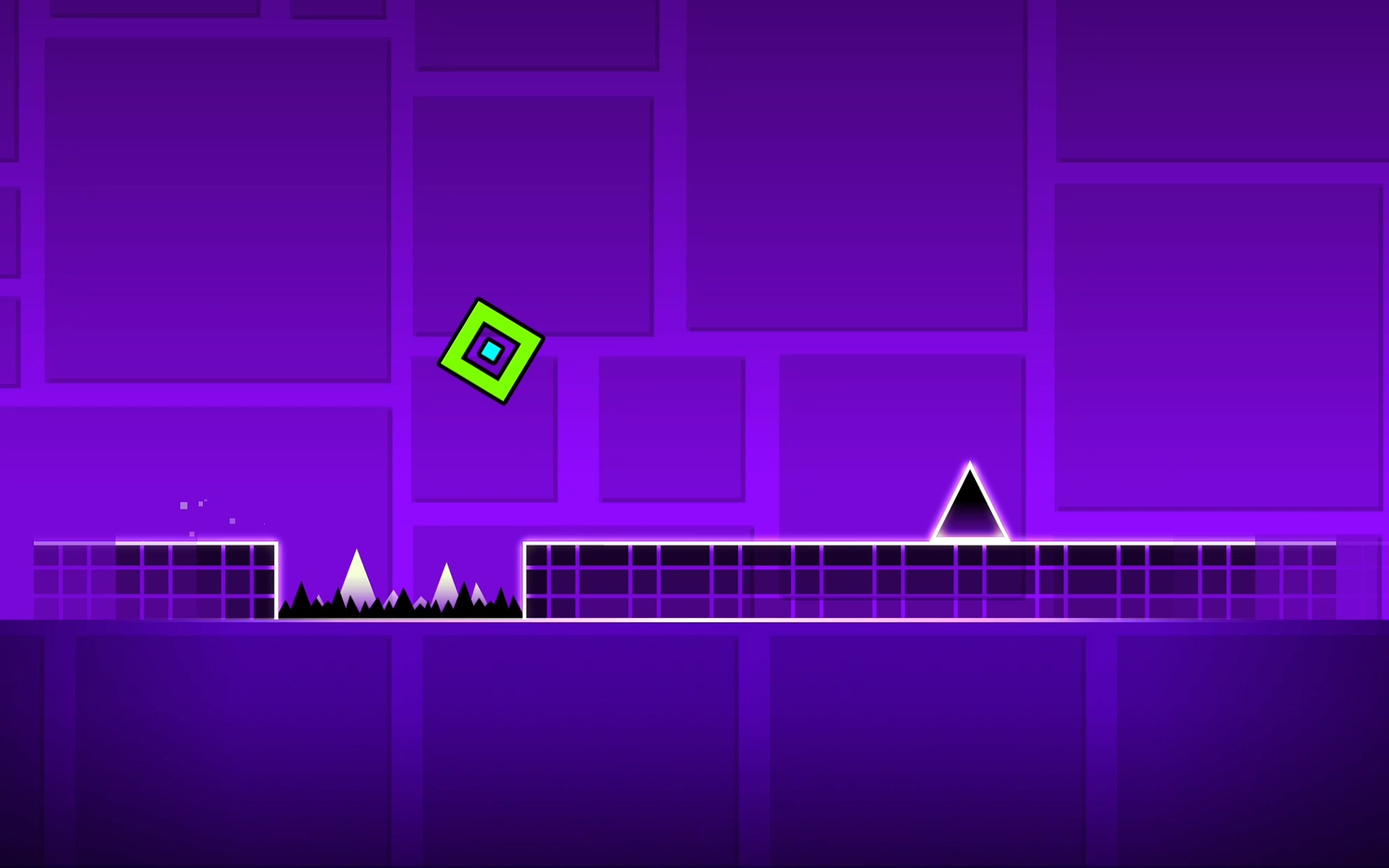Block2: (521, 540, 1370, 615), (32, 542, 277, 620)
Player: (437, 298, 543, 402)
Spike: (931, 462, 1007, 538)
Spike3: (279, 581, 523, 622)
